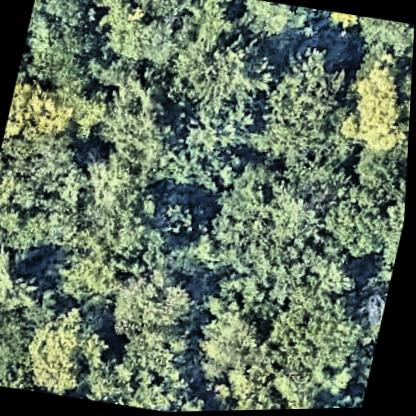tree-top: (198, 156, 322, 280), (259, 282, 375, 406), (255, 38, 353, 177), (159, 86, 270, 208), (0, 138, 96, 264), (106, 267, 206, 367), (165, 25, 275, 113), (18, 305, 116, 401), (72, 166, 164, 262), (89, 332, 196, 414), (335, 51, 414, 162), (17, 0, 112, 92), (93, 0, 203, 72), (93, 77, 177, 170), (133, 196, 217, 289), (4, 70, 86, 151), (198, 309, 279, 385), (342, 119, 411, 206), (49, 246, 127, 310), (229, 0, 321, 54), (322, 190, 395, 256), (340, 15, 415, 76), (372, 172, 409, 288), (305, 241, 367, 303), (0, 289, 40, 382), (0, 250, 46, 324), (232, 385, 285, 412), (400, 26, 415, 87), (281, 395, 338, 411)
